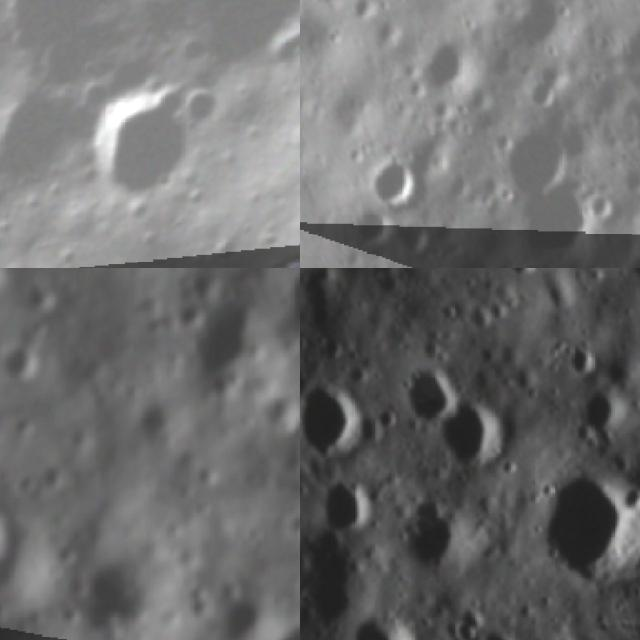crater: (54, 64, 222, 232), (515, 447, 640, 607), (0, 69, 88, 218), (412, 376, 530, 484), (383, 483, 494, 586), (378, 342, 475, 441), (300, 362, 384, 476), (306, 463, 385, 547), (333, 594, 430, 640), (574, 376, 636, 445), (359, 154, 416, 208), (512, 133, 576, 181), (556, 334, 604, 391), (418, 46, 479, 86), (346, 217, 393, 266), (461, 290, 501, 336), (257, 237, 300, 268), (0, 345, 34, 382), (521, 74, 555, 108), (587, 189, 609, 226), (406, 222, 428, 258), (287, 268, 300, 325), (503, 268, 546, 285), (286, 499, 300, 542)
